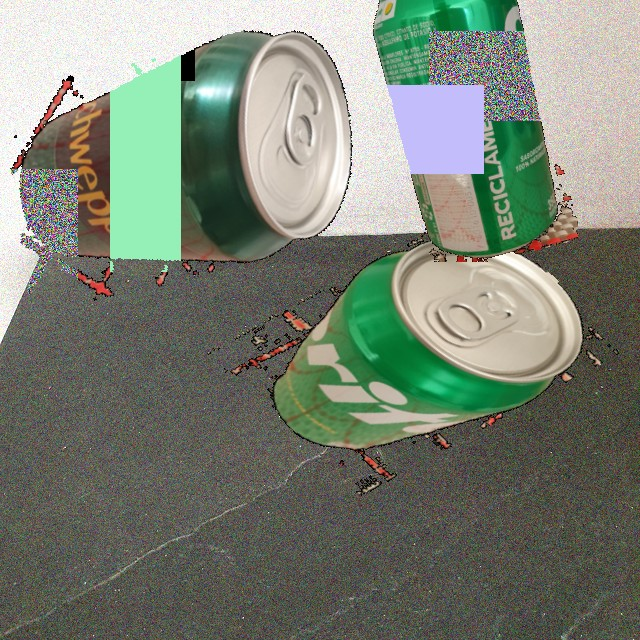schweppes: (0, 0, 403, 341)
sprite: (205, 139, 630, 563), (358, 0, 578, 262)
